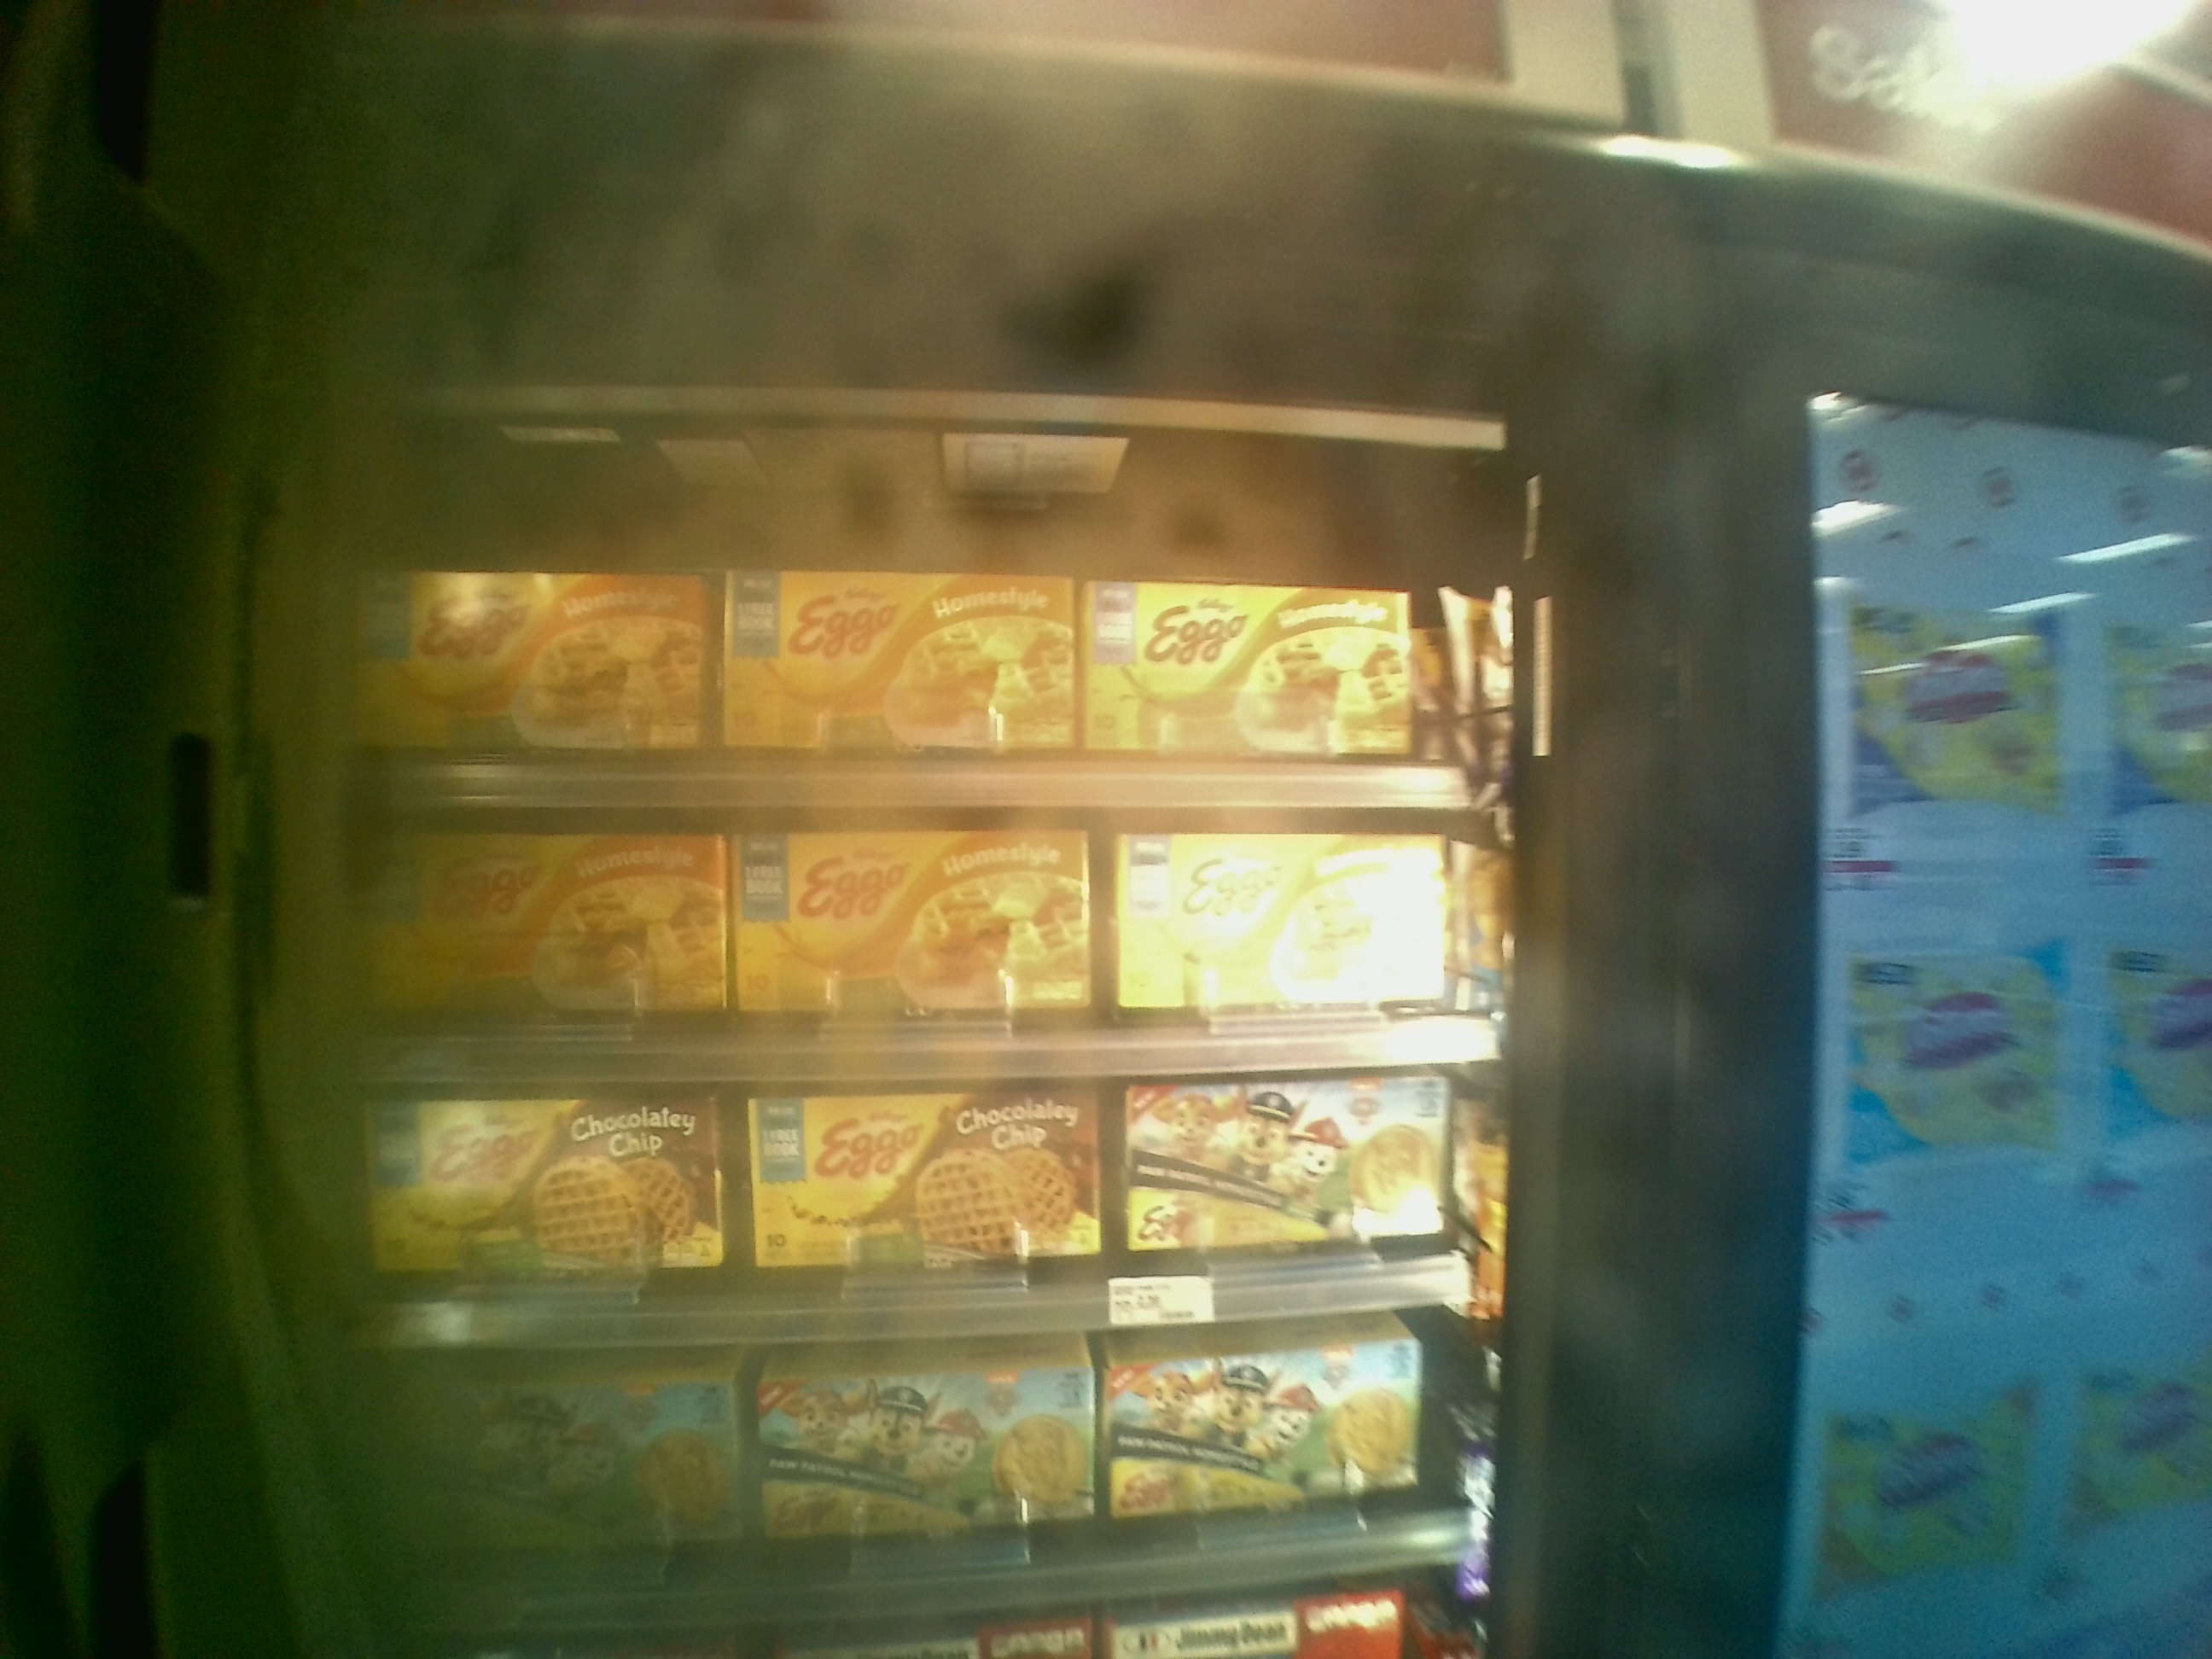frozen-food-shelf: (355, 387, 1486, 809)
